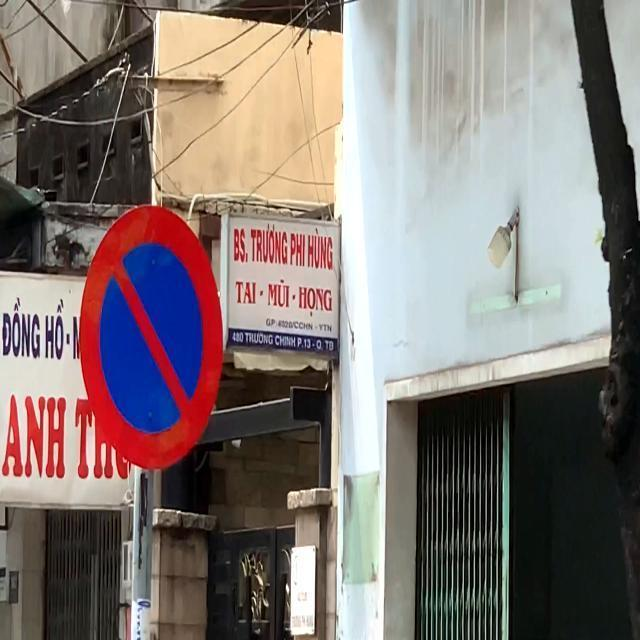131a-cam-do-xe: (74, 204, 218, 461)
